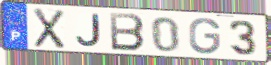0: (149, 15, 183, 53)
3: (228, 19, 259, 57)
B: (108, 11, 147, 53)
G: (188, 17, 223, 56)
J: (75, 13, 103, 49)
X: (32, 7, 66, 50)
